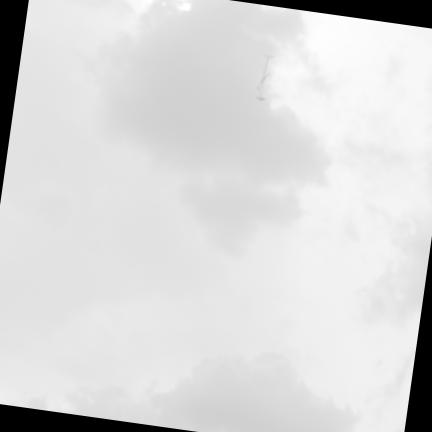Shahed: (256, 55, 273, 100)
